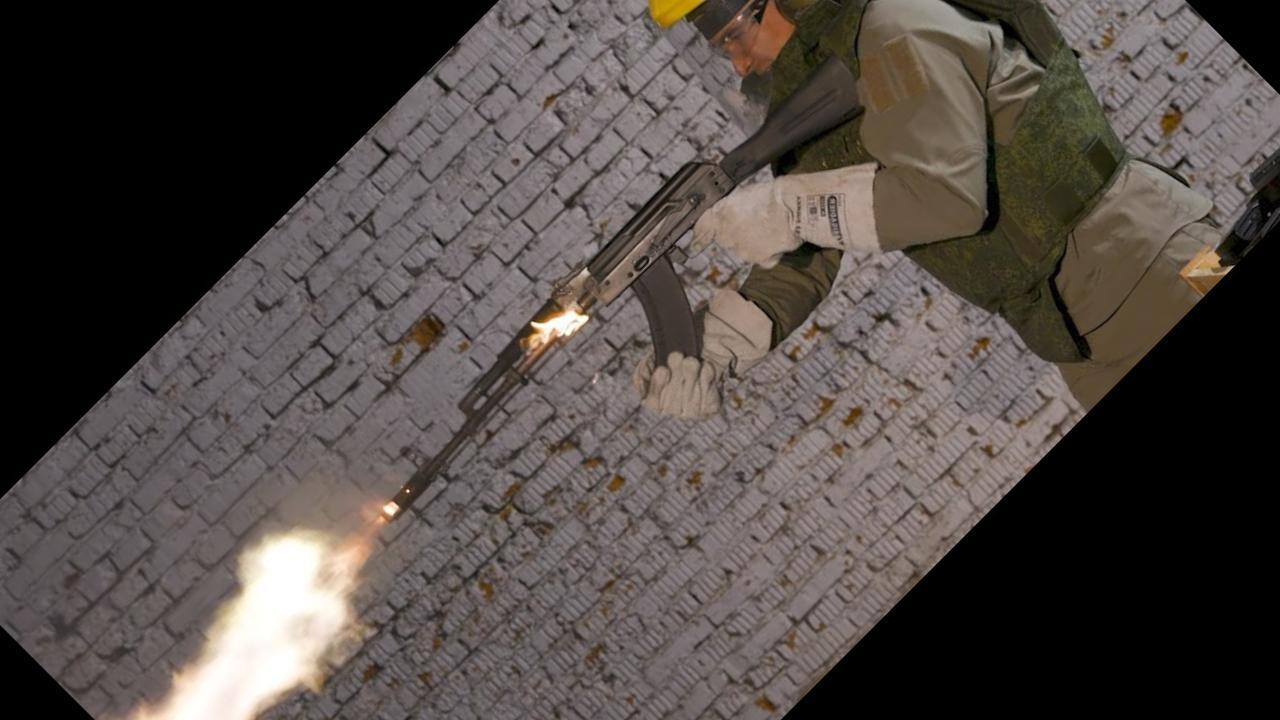larga: (378, 54, 867, 524)
